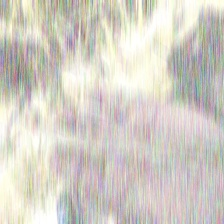Leaf_Blast: (33, 125, 173, 159)
